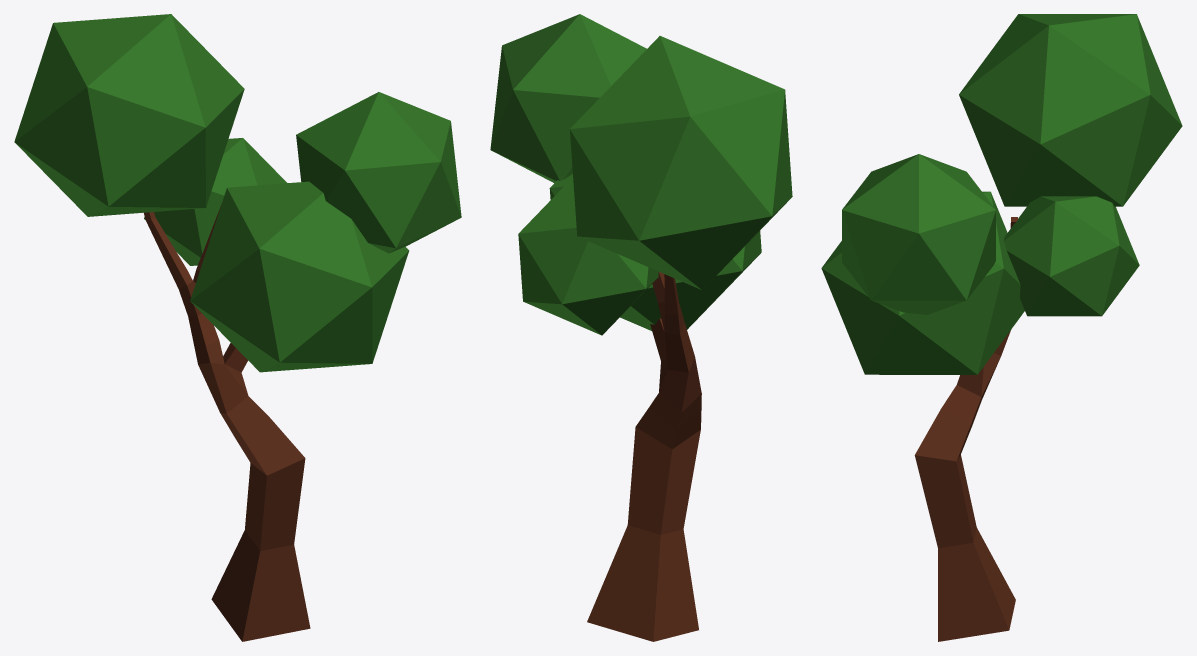
File: tree_new.fbx
3 renders of one model, left to right at view 1: azimuth 30°, elevation 25°; view 2: azimuth 150°, elevation 25°; view 3: azimuth 270°, elevation 25°, orthographic. The views are drawn at different scales.
Visible parts, largest first — view 1: Tree_Var1_LOD1; view 2: Tree_Var1_LOD1; view 3: Tree_Var1_LOD1.
Boxes of the visible parts, bbox=[...] form: Tree_Var1_LOD1: bbox=[14, 14, 461, 641]; Tree_Var1_LOD1: bbox=[490, 14, 792, 641]; Tree_Var1_LOD1: bbox=[821, 14, 1182, 641].
Size of the model in its own units: 426 by 703 by 398.
